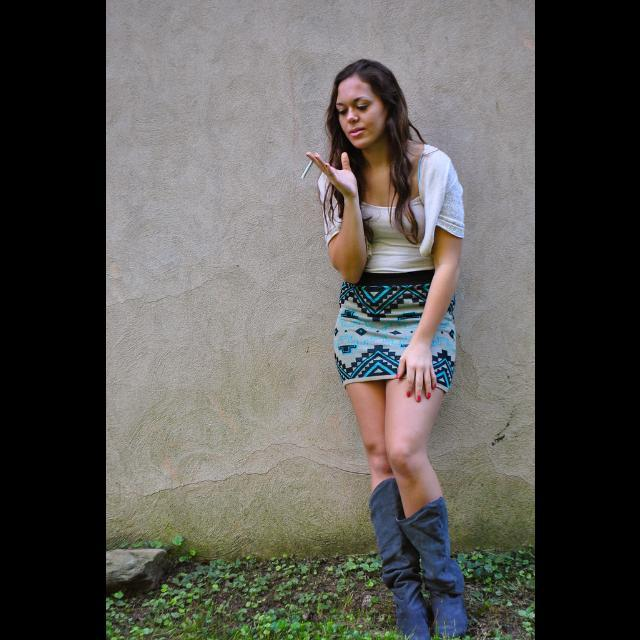rokok: (298, 156, 320, 178)
